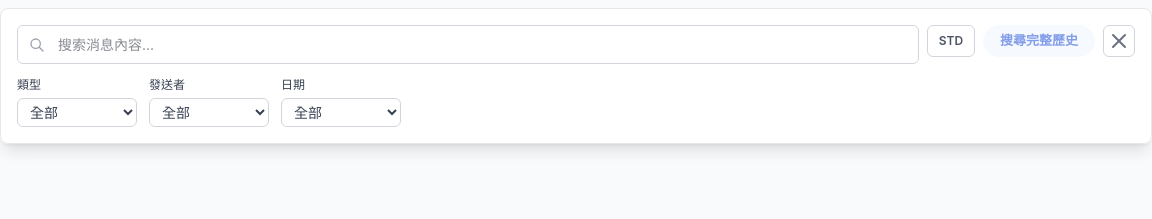
Test case: MessageSearch.vue › 搜索輸入 › 搜索有結果時應顯示結果數量
This screenshot has width=1152, height=219.
Type "test" into the field with class "search-input". click: (468, 44)
box: left=17, top=25, right=919, bottom=64
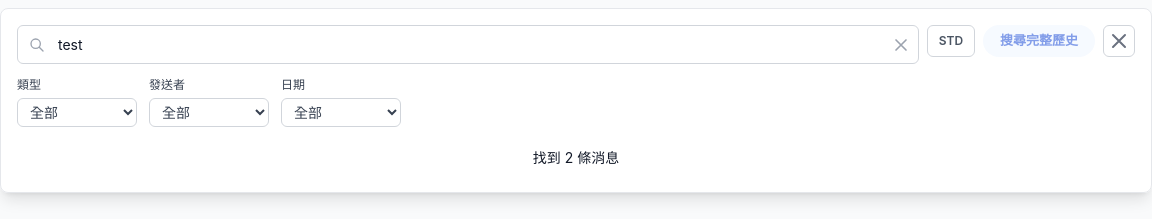
expect the text with class "search-results-info" shows "2": met, box left=533, top=149, right=619, bottom=166
